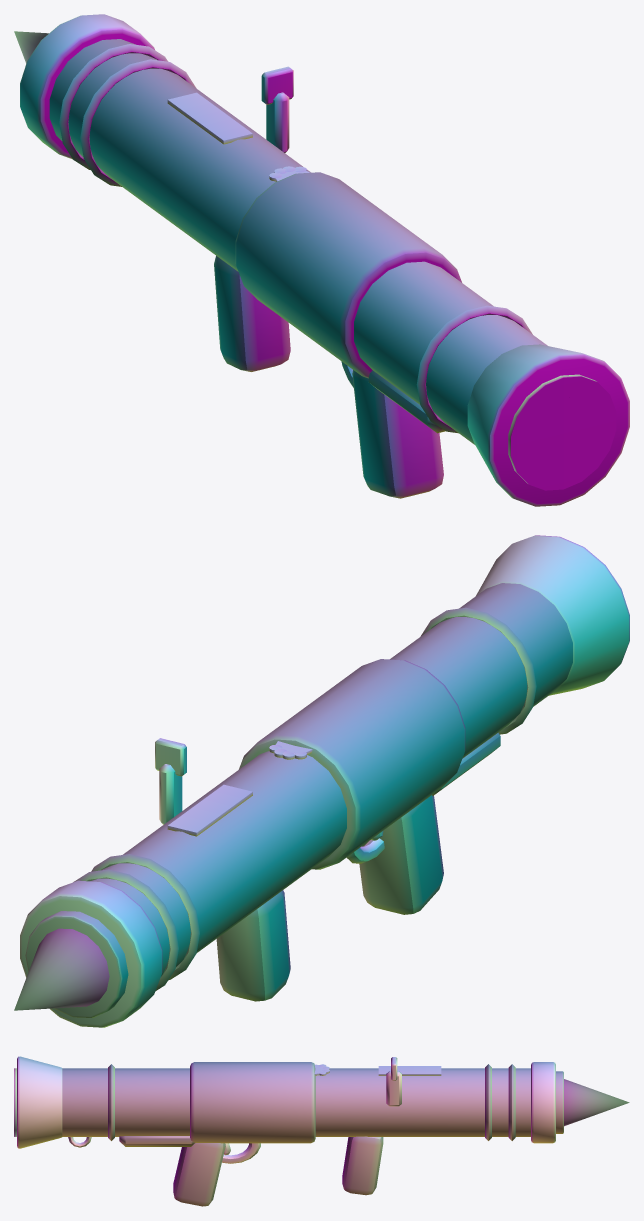
The model's file is wpn_rocket.glb.
The picture shows the model from 3 angles, top to bottom: view 1: azimuth 30°, elevation 25°; view 2: azimuth 150°, elevation 25°; view 3: azimuth 270°, elevation 25°; orthographic projection. The views are drawn at different scales.
Parts seen in each view (by area): view 1: wpn_rocket_mesh; view 2: wpn_rocket_mesh; view 3: wpn_rocket_mesh.
Boxes of the visible parts, x1,y1,x2,y2 form: wpn_rocket_mesh: (14, 14, 629, 506); wpn_rocket_mesh: (14, 535, 629, 1027); wpn_rocket_mesh: (14, 1056, 629, 1206).
Size of the model in its own units: 0.0581 by 0.1099 by 0.392.
